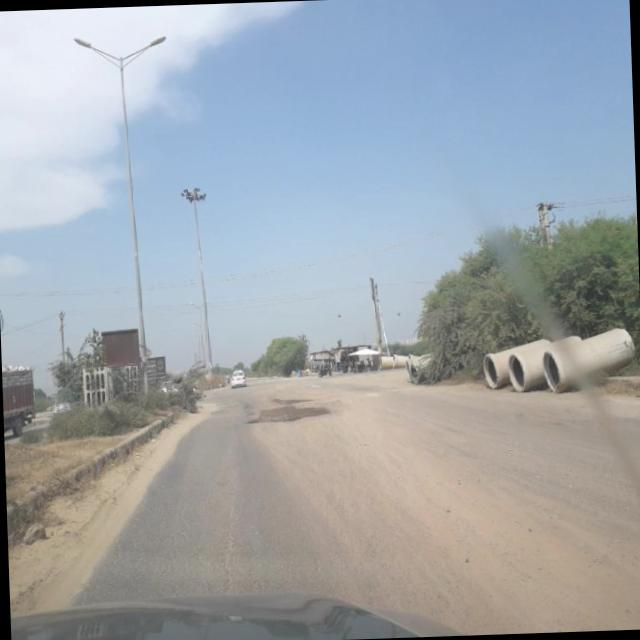crack: (218, 439, 248, 585), (170, 434, 200, 580)
pothole: (234, 387, 340, 426)
